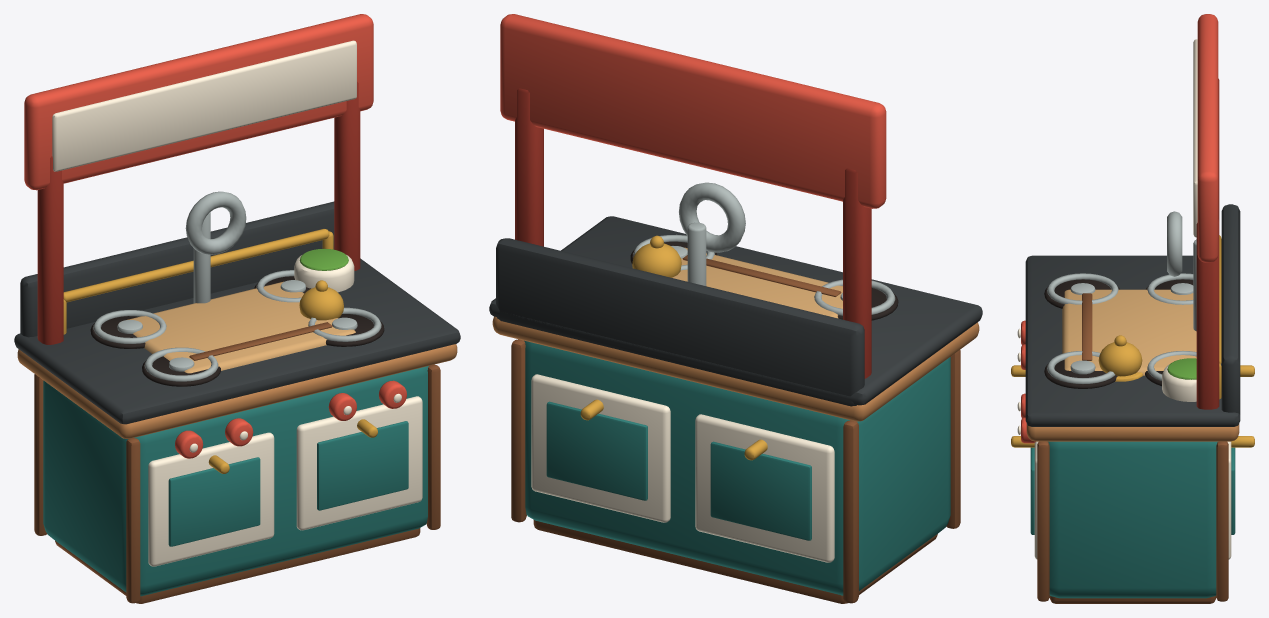
File: stations.glb
The picture shows the model from 3 angles, left to right: view 1: azimuth 30°, elevation 25°; view 2: azimuth 150°, elevation 25°; view 3: azimuth 270°, elevation 25°; orthographic projection. The views are drawn at different scales.
Visible parts, largest first — view 1: Counter, ServeStation, StoveStation, ChopStation, SinkStation, PlateStation; view 2: Counter, ServeStation, StoveStation, ChopStation, SinkStation; view 3: Counter, StoveStation, ServeStation, ChopStation, SinkStation, PlateStation.
Part boxes in pixels (left/top/right/bottom): Counter: left=17, top=344, right=457, bottom=603; ServeStation: left=24, top=14, right=373, bottom=344; StoveStation: left=14, top=201, right=460, bottom=458; ChopStation: left=127, top=248, right=355, bottom=373; SinkStation: left=185, top=191, right=246, bottom=303; PlateStation: left=63, top=229, right=333, bottom=334; Counter: left=492, top=316, right=979, bottom=603; ServeStation: left=500, top=14, right=886, bottom=378; StoveStation: left=489, top=216, right=982, bottom=406; ChopStation: left=672, top=247, right=842, bottom=318; SinkStation: left=679, top=182, right=745, bottom=285; Counter: left=1011, top=365, right=1254, bottom=603; StoveStation: left=1017, top=204, right=1240, bottom=443; ServeStation: left=1098, top=14, right=1219, bottom=409; ChopStation: left=1062, top=289, right=1196, bottom=401; SinkStation: left=1167, top=211, right=1196, bottom=331; PlateStation: left=1219, top=235, right=1221, bottom=399.
Size of the model in its own units: 1.86 by 2.36 by 1.17.
